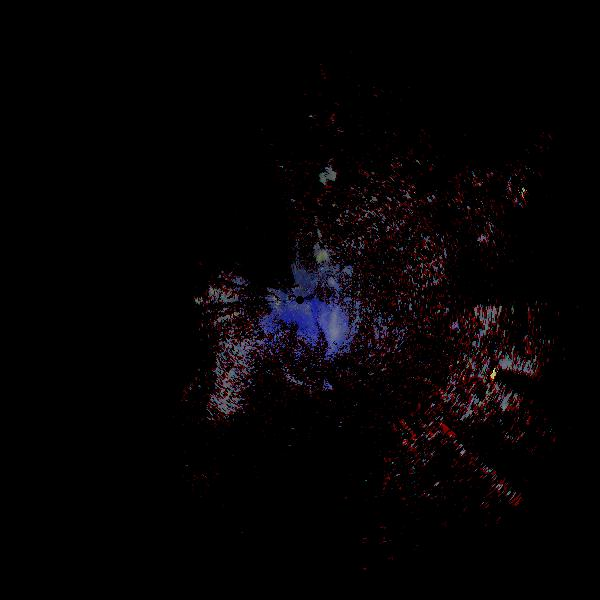roost: (291, 430, 294, 433)
